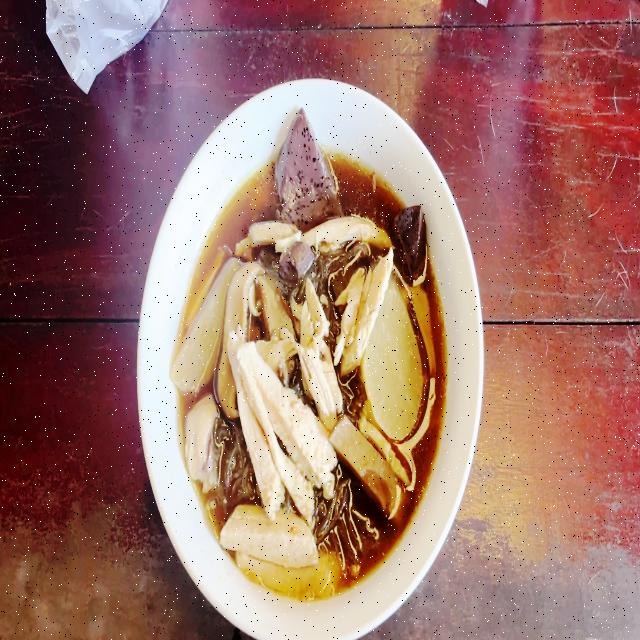boiled_chicken_blood_jelly: (278, 114, 338, 218), (393, 206, 428, 276), (278, 245, 306, 282)
chicken_shredded: (231, 334, 322, 516), (338, 258, 390, 364), (219, 508, 309, 560), (306, 273, 334, 413), (190, 396, 220, 485), (308, 218, 384, 245), (243, 220, 301, 253)
daikon_radish: (172, 260, 236, 396), (371, 296, 422, 440)
noodle: (181, 158, 444, 596)
